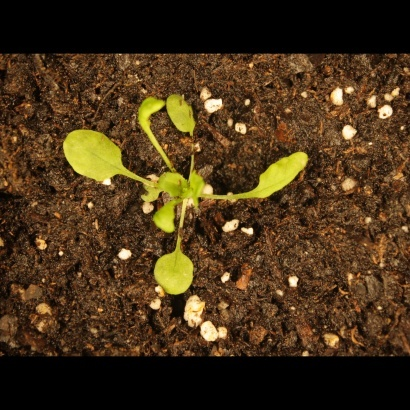leaf: (52, 121, 128, 188), (240, 149, 318, 206), (151, 246, 201, 301), (167, 91, 210, 139), (133, 96, 166, 134), (155, 169, 187, 201), (150, 201, 181, 233), (187, 170, 210, 206)
